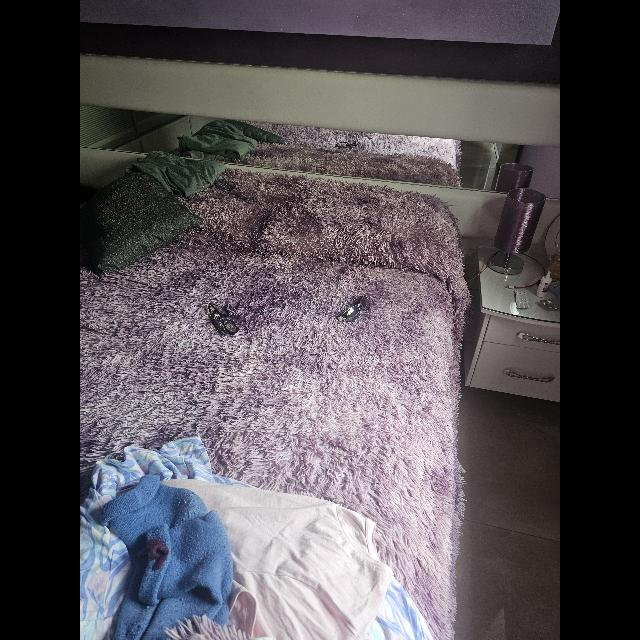Sunglasses: (338, 296, 370, 322)
glasses: (208, 303, 238, 335), (335, 140, 357, 148)
